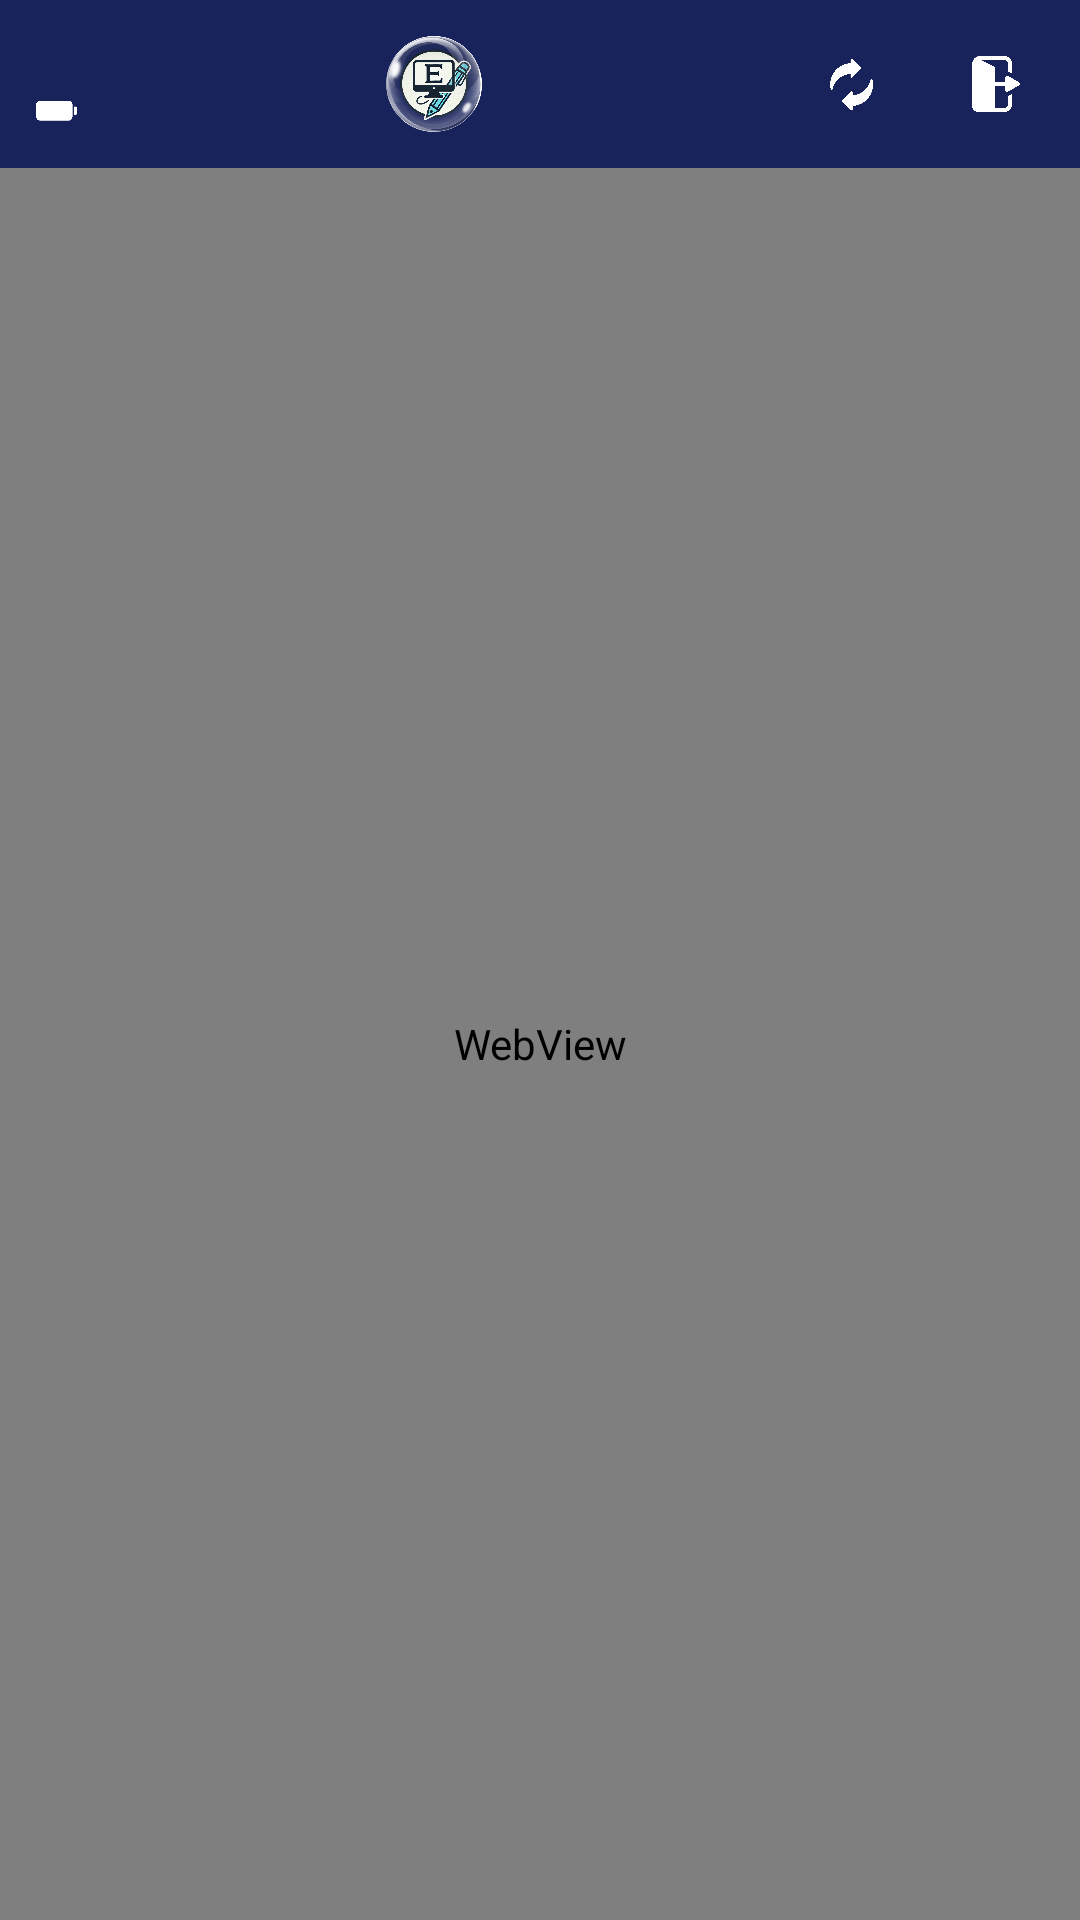

Point at icon controls on the screen. Image size 1080 × 1920, points as [x,y].
baterai: [56,111]
Muat ulang halaman: [851,84]
